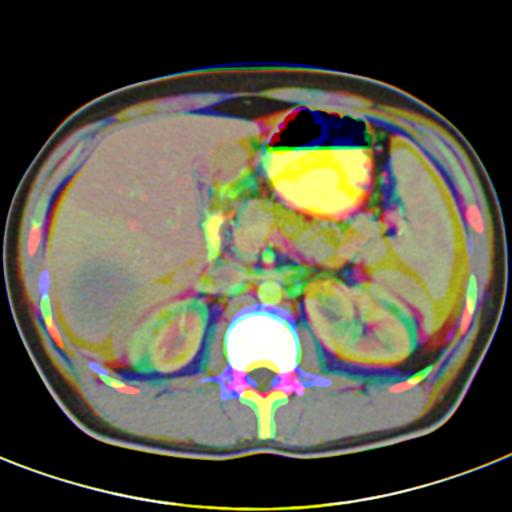Abscess: (59, 257, 139, 347)
